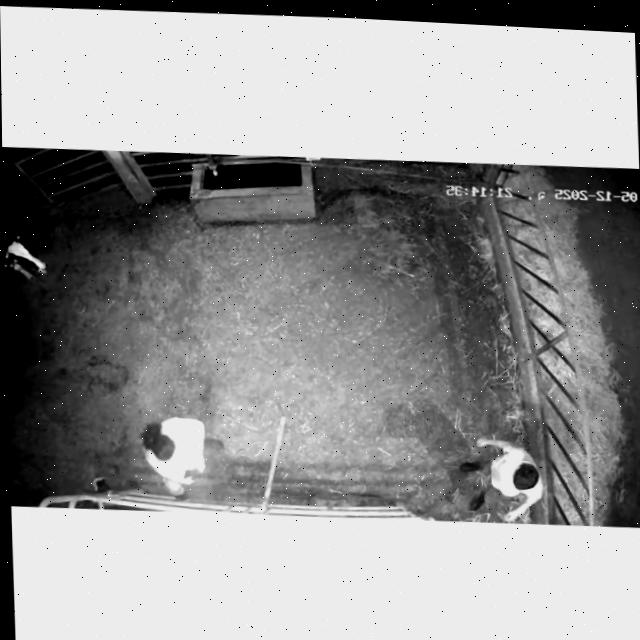stand: (3, 202, 62, 285)
